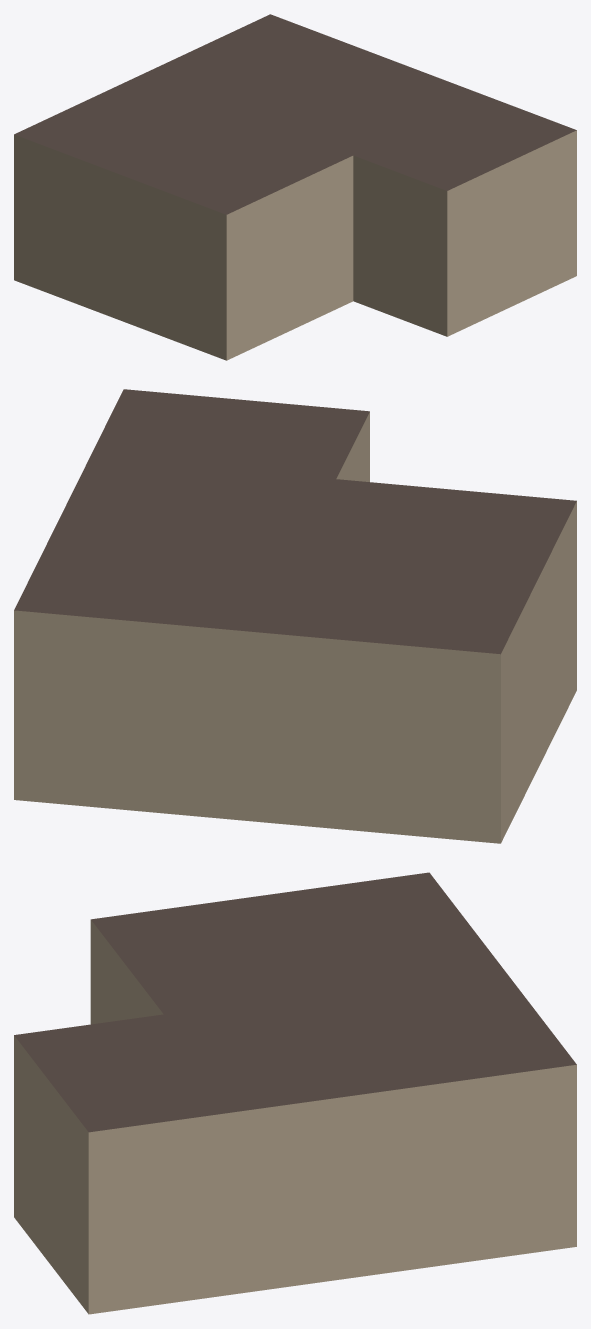
3 renders of one model, top to bottom at view 1: azimuth 30°, elevation 25°; view 2: azimuth 150°, elevation 25°; view 3: azimuth 270°, elevation 25°, orthographic. The views are drawn at different scales.
Visible parts, largest first — view 1: HP-w440024353; view 2: HP-w440024353; view 3: HP-w440024353.
Part boxes in pixels (x1,y1,x2,y2): HP-w440024353: [14, 14, 576, 360]; HP-w440024353: [14, 389, 576, 843]; HP-w440024353: [14, 872, 576, 1314].
Size of the model in its own units: 27.55 by 9 by 25.21.
